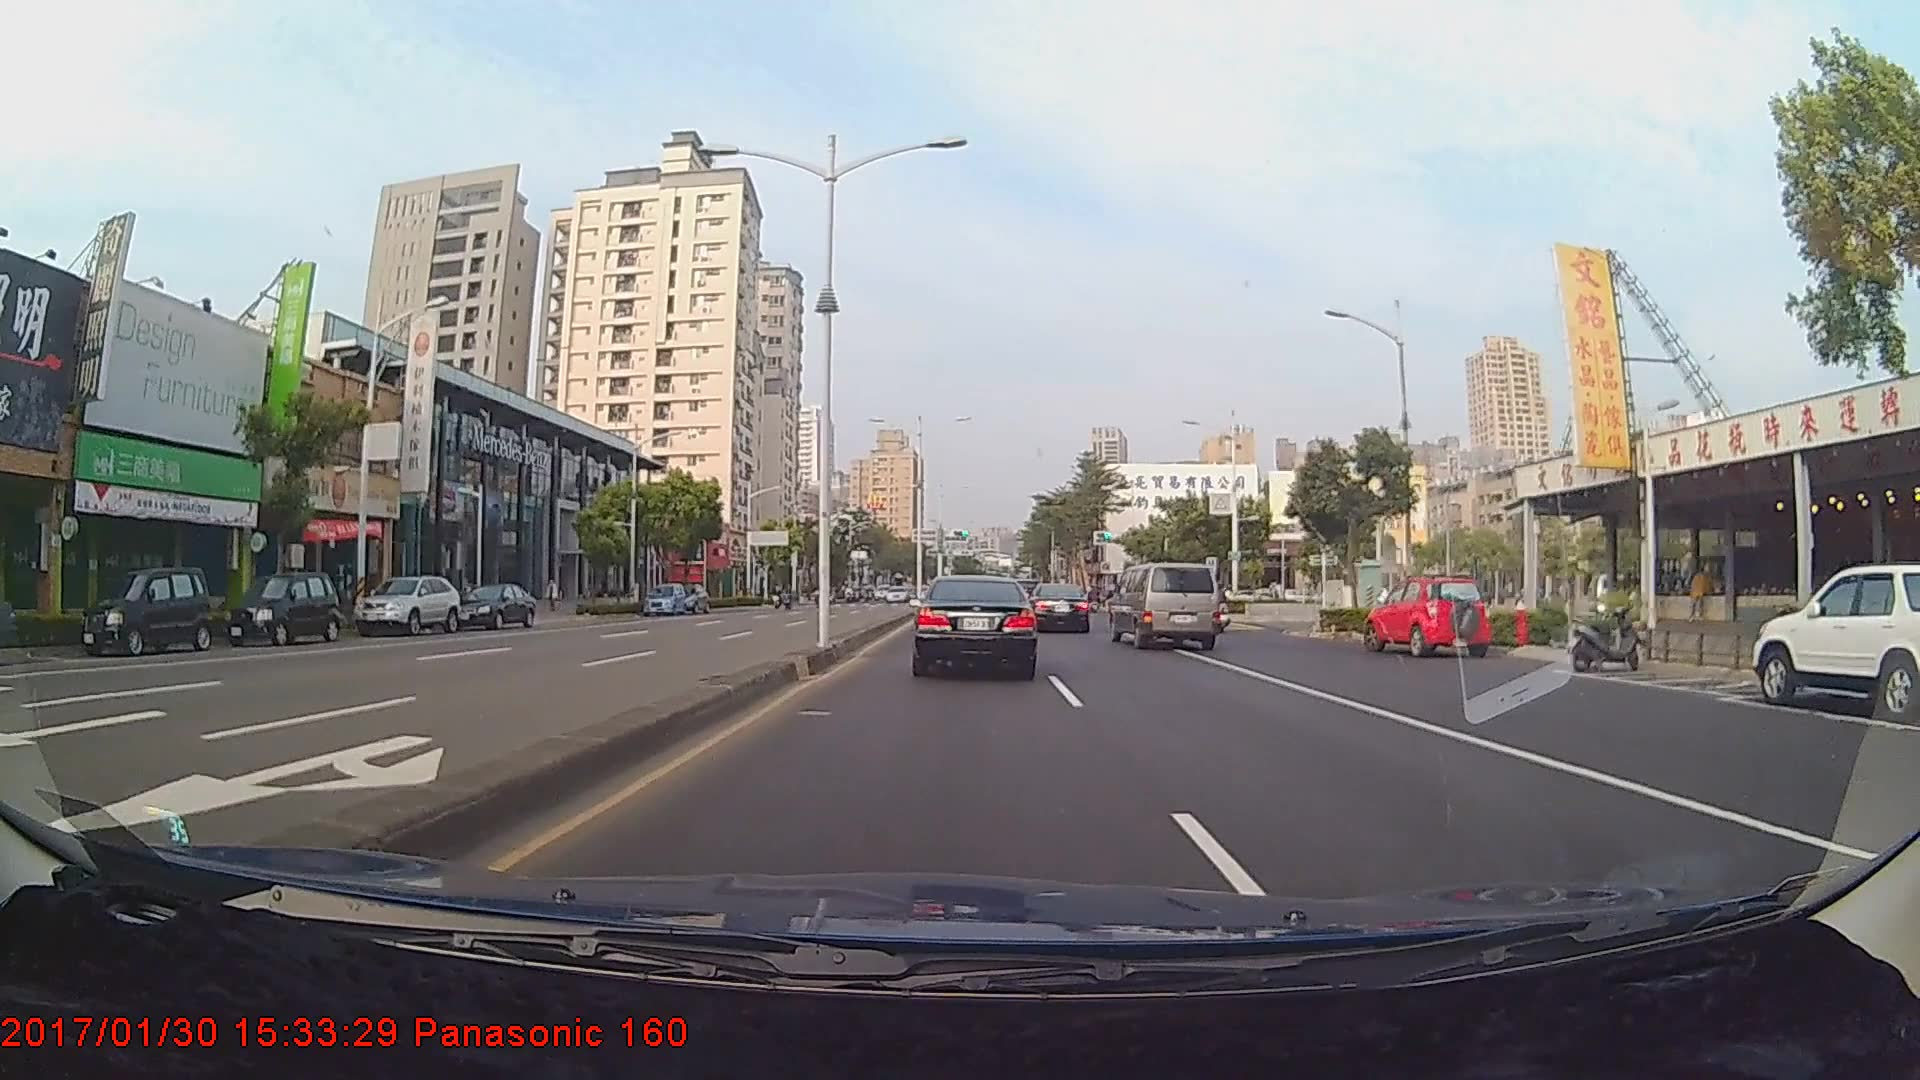pedestrian: (1688, 565, 1715, 627)
vehicle: (1748, 565, 1920, 713), (910, 575, 1037, 677), (79, 564, 212, 657), (1107, 560, 1221, 650), (1368, 575, 1486, 659), (355, 574, 463, 637), (255, 574, 339, 645), (451, 582, 536, 631), (1027, 582, 1091, 635), (641, 582, 686, 616)
